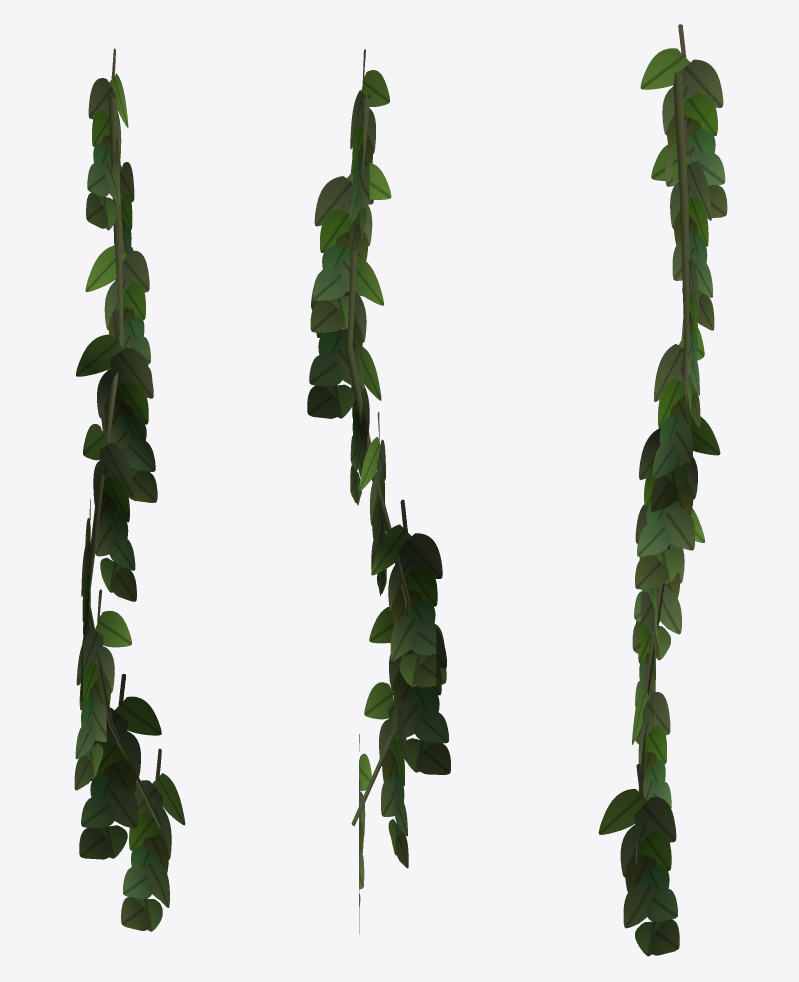
File: vine-pendant.lod1.glb
3 views of the same model, side by side, from view 1: azimuth 30°, elevation 25°; view 2: azimuth 150°, elevation 25°; view 3: azimuth 270°, elevation 25° (orthographic). The views are drawn at different scales.
Parts seen in each view (by area): view 1: vine_pendant_mesh; view 2: vine_pendant_mesh; view 3: vine_pendant_mesh.
Part boxes in pixels (x1,y1,x2,y2): vine_pendant_mesh: [74, 48, 185, 931]; vine_pendant_mesh: [307, 49, 450, 934]; vine_pendant_mesh: [598, 24, 727, 956].
Bounding box in the file's own units: 0.3948 × 1.68 × 0.4102.
Materials: 2 (2 with a texture image).
